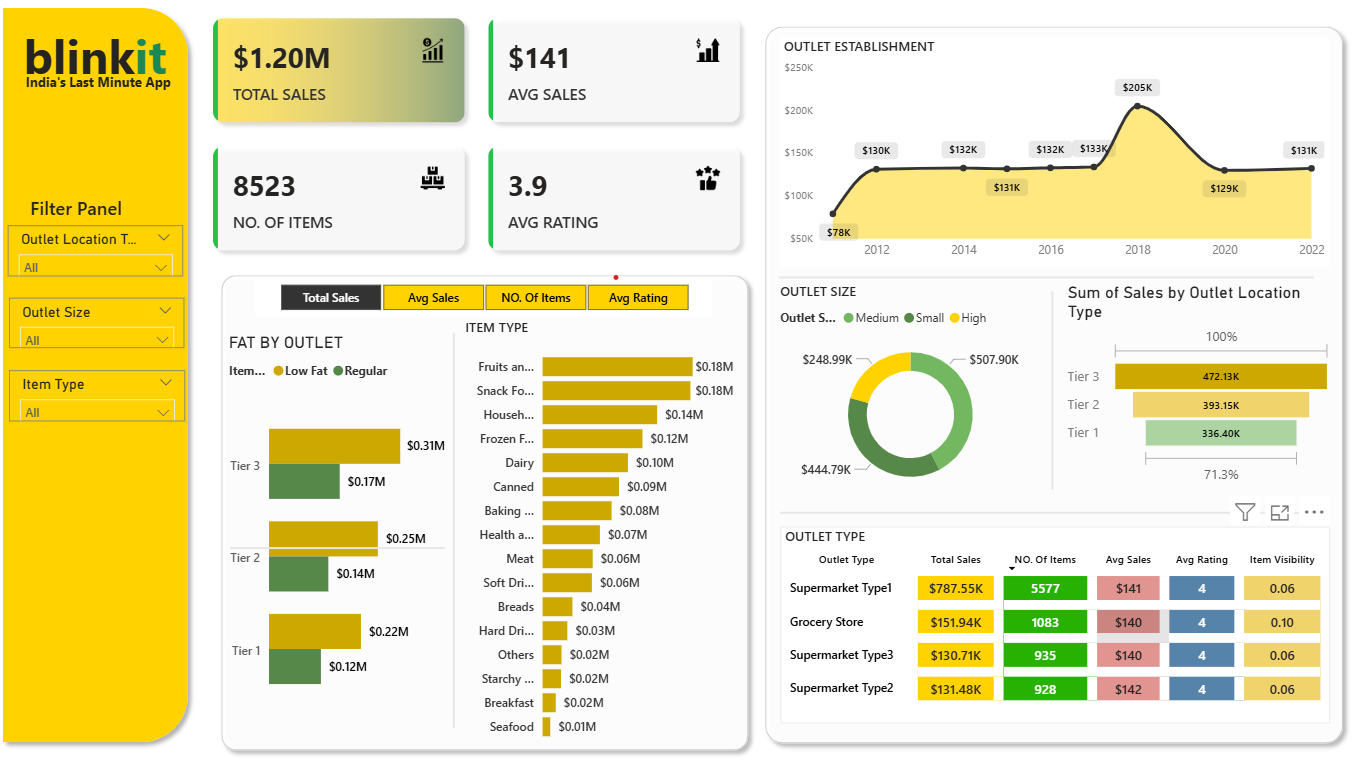

What the dashboard file says about the page in this screenshot:
{"tool":"powerbi","page":{"name":"Page 1","canvas":[1400,800],"ordinal":0},"visuals":[{"type":"shape","box":[0,0,206.2,765],"z":0},{"type":"textbox","box":[24.2,19.1,157.7,81.4],"z":1000},{"type":"textbox","box":[24.2,69.9,164.1,30.5],"z":2000},{"type":"cardVisual","fields":{"Data":["BlinkIT Grocery Data.Total Sales","BlinkIT Grocery Data.Avg Sales","BlinkIT Grocery Data.NO. Of Items","BlinkIT Grocery Data.Avg Rating"]},"box":[206.2,2.5,570,270],"z":3000},{"type":"shape","box":[222.5,272.5,553.8,501.2],"z":4000},{"type":"slicer","title":"FAT CONTENT","fields":{"Values":["BlinkIT Grocery Data.Outlet Location Type"]},"box":[13.8,230.8,178.5,52.3],"z":5000},{"type":"slicer","fields":{"Values":["Metrics.Metrics"]},"box":[266.4,283.6,465,40],"z":6000},{"type":"clusteredBarChart","title":"FAT BY OUTLET ","fields":{"Y":["BlinkIT Grocery Data.Total Sales"],"Category":["BlinkIT Grocery Data.Outlet Location Type"],"Series":["BlinkIT Grocery Data.Item Fat Content"]},"box":[234.3,340,230,404.3],"z":7000},{"type":"shape","box":[240.8,555,218.3,8.3],"z":8000},{"type":"shape","box":[461.7,340,12.5,402.5],"z":9000},{"type":"barChart","title":"ITEM TYPE","fields":{"Y":["BlinkIT Grocery Data.Total Sales"],"Category":["BlinkIT Grocery Data.Item Type"]},"box":[474,324,283,441],"z":10000},{"type":"shape","box":[775.7,18.6,605.7,747.1],"z":11000},{"type":"lineChart","title":"OUTLET ESTABLISHMENT","fields":{"Category":["BlinkIT Grocery Data.Outlet Establishment Year"],"Y":["BlinkIT Grocery Data.Total Sales"]},"box":[798.3,38.3,560,235],"z":12000},{"type":"shape","box":[800,509,543,28],"z":13000},{"type":"donutChart","title":"OUTLET SIZE ","fields":{"Y":["BlinkIT Grocery Data.Total Sales"],"Category":["BlinkIT Grocery Data.Outlet Size"]},"box":[794.5,287.3,275.5,225.5],"z":14000},{"type":"shape","box":[1070,297.3,14.5,201.8],"z":15000},{"type":"funnel","fields":{"Y":["Sum(BlinkIT Grocery Data.Sales)"],"Category":["BlinkIT Grocery Data.Outlet Location Type"]},"box":[1087,289,279,210],"z":16000},{"type":"shape","box":[798.7,269.3,544,27.3],"z":17000},{"type":"pivotTable","title":"OUTLET TYPE","fields":{"Rows":["BlinkIT Grocery Data.Outlet Type"],"Values":["BlinkIT Grocery Data.Total Sales","BlinkIT Grocery Data.NO. Of Items","BlinkIT Grocery Data.Avg Sales","BlinkIT Grocery Data.Avg Rating","Avg(BlinkIT Grocery Data.Item Visibility)"]},"box":[800,537,560,201],"z":18000},{"type":"slicer","title":"FAT CONTENT","fields":{"Values":["BlinkIT Grocery Data.Outlet Size"]},"box":[15.7,304.3,178.6,51.4],"z":19000},{"type":"slicer","title":"FAT CONTENT","fields":{"Values":["BlinkIT Grocery Data.Item Type"]},"box":[15.3,377.7,179.3,52.1],"z":20000},{"type":"textbox","box":[0,194.3,167.1,37.1],"z":20001}]}

Visuals, with their boxes in screenshot pixels (x1, y1, x2, y2), scaled from the page's 1400x800 canvas onto the 1355x772 screenshot:
shape: locate(0, 0, 200, 738)
textbox: locate(23, 18, 176, 97)
textbox: locate(23, 67, 182, 97)
cardVisual - BlinkIT Grocery Data.Total Sales x BlinkIT Grocery Data.Avg Sales: locate(200, 2, 751, 263)
shape: locate(215, 263, 751, 747)
"FAT CONTENT" slicer: locate(13, 223, 186, 273)
slicer - Metrics.Metrics: locate(258, 274, 708, 312)
"FAT BY OUTLET " clusteredBarChart: locate(227, 328, 449, 718)
shape: locate(233, 536, 444, 544)
shape: locate(447, 328, 459, 717)
"ITEM TYPE" barChart: locate(459, 313, 733, 738)
shape: locate(751, 18, 1337, 739)
"OUTLET ESTABLISHMENT" lineChart: locate(773, 37, 1315, 264)
shape: locate(774, 491, 1300, 518)
"OUTLET SIZE " donutChart: locate(769, 277, 1036, 495)
shape: locate(1036, 287, 1050, 482)
funnel - Sum(BlinkIT Grocery Data.Sales) x BlinkIT Grocery Data.Outlet Location Type: locate(1052, 279, 1322, 482)
shape: locate(773, 260, 1300, 286)
"OUTLET TYPE" pivotTable: locate(774, 518, 1316, 712)
"FAT CONTENT" slicer: locate(15, 294, 188, 343)
"FAT CONTENT" slicer: locate(15, 364, 188, 415)
textbox: locate(0, 187, 162, 223)
